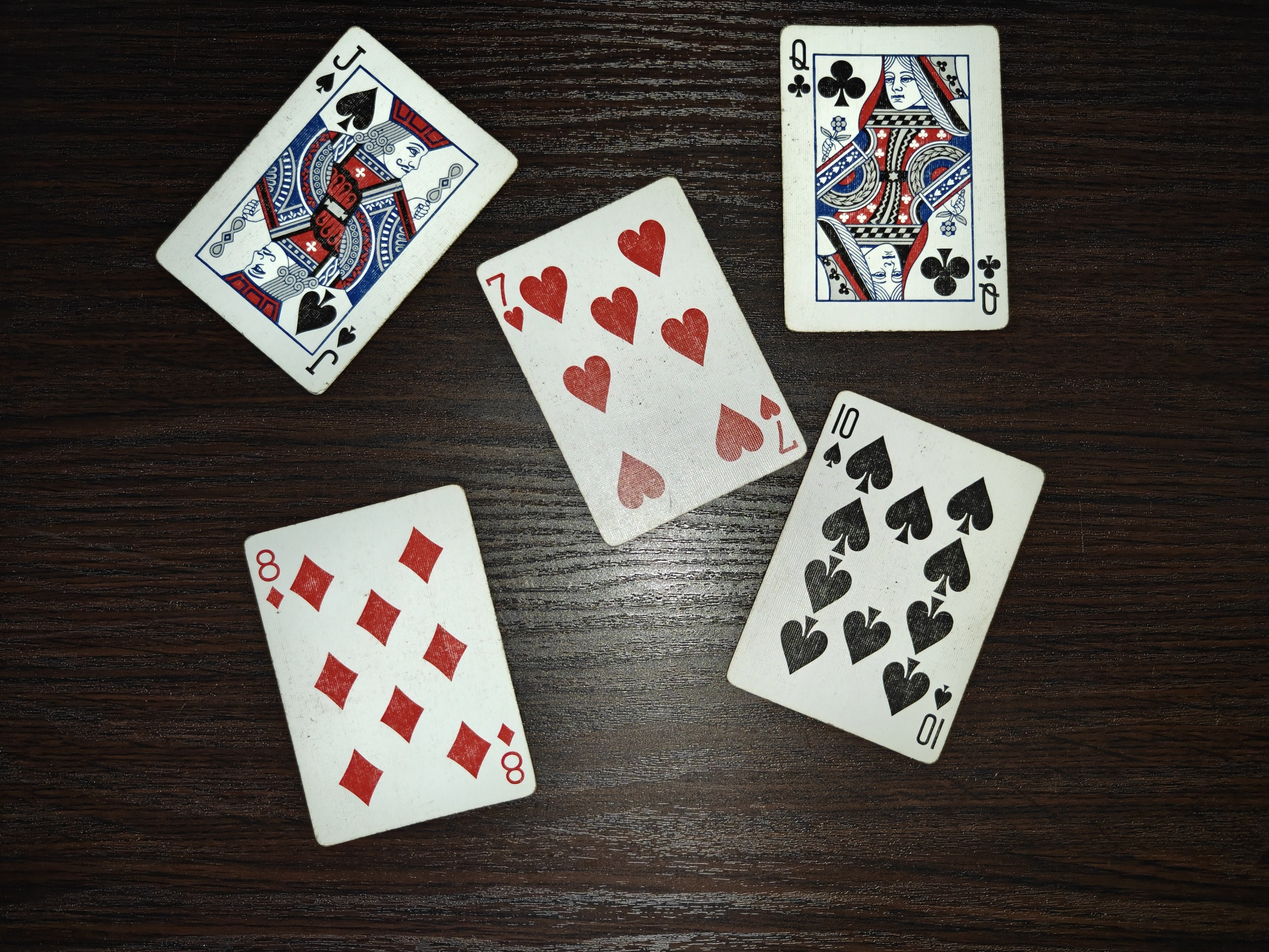10S: (726, 387, 1047, 764)
7H: (477, 177, 807, 549)
8D: (244, 484, 537, 847)
JS: (154, 24, 518, 394)
QC: (778, 23, 1010, 332)
